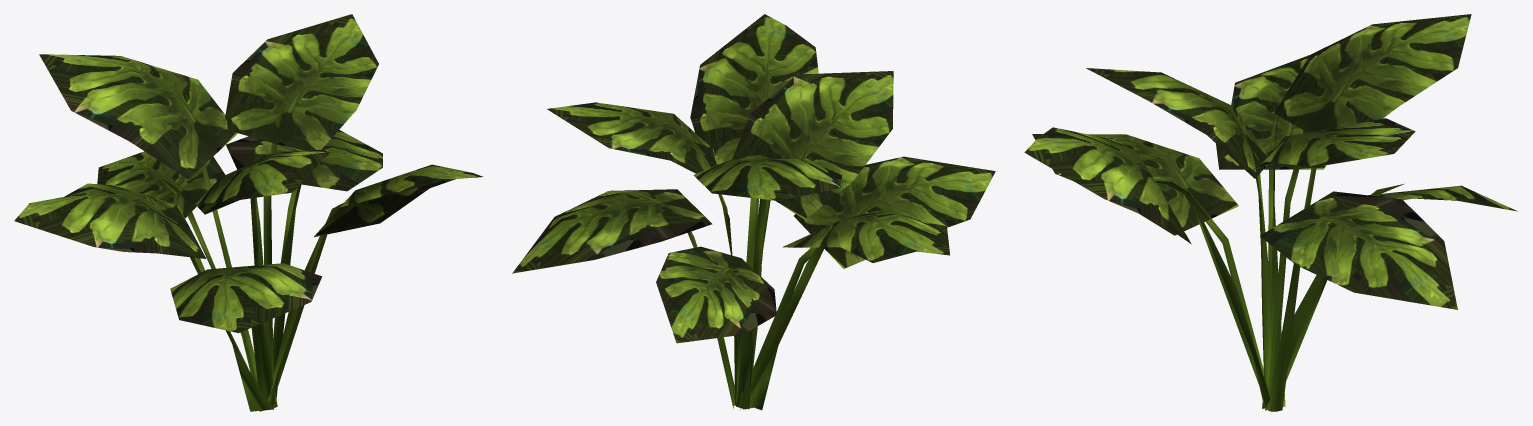
The model's file is perera.glb.
The picture shows the model from 3 angles, left to right: view 1: azimuth 30°, elevation 25°; view 2: azimuth 150°, elevation 25°; view 3: azimuth 270°, elevation 25°; orthographic projection. The views are drawn at different scales.
Parts seen in each view (by area): view 1: perera; view 2: perera; view 3: perera.
Part boxes in pixels (left/top/right/bottom): perera: left=14, top=14, right=483, bottom=411; perera: left=512, top=14, right=995, bottom=410; perera: left=1024, top=14, right=1517, bottom=411.
Bounding box in the file's own units: 3.87 × 3 × 4.11.
Materials: 1 (1 with a texture image).
